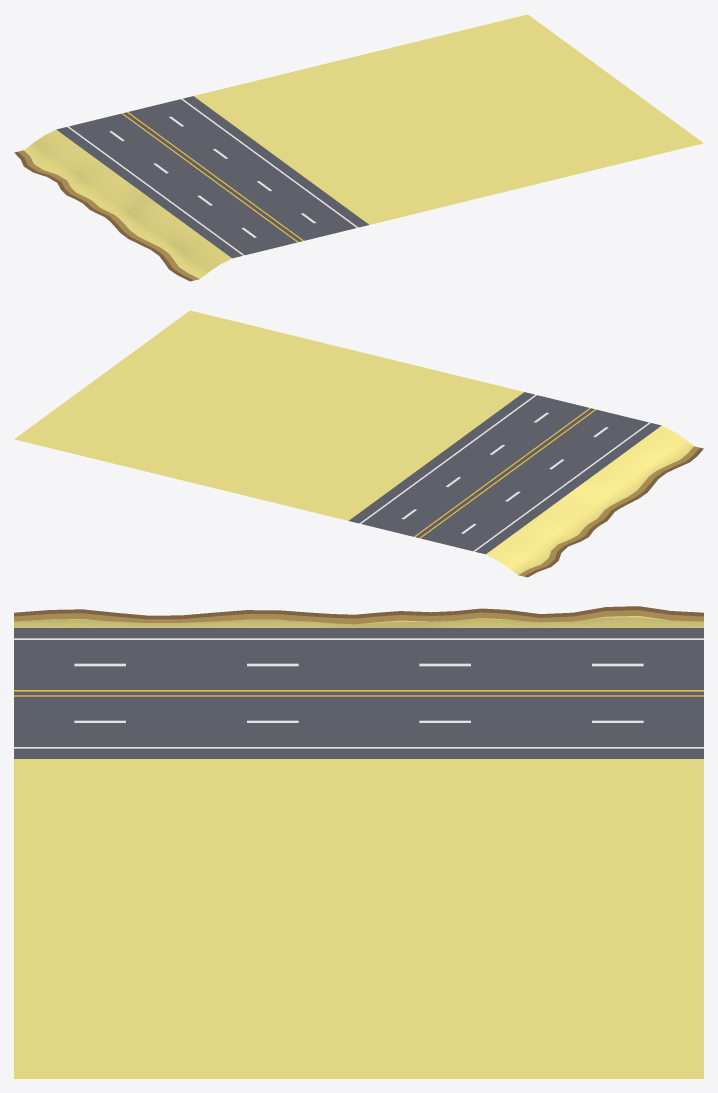
The model's file is HighWay_Ground_04.fbx.
3 views of the same model, one above another, from view 1: azimuth 30°, elevation 25°; view 2: azimuth 150°, elevation 25°; view 3: azimuth 270°, elevation 25° (orthographic). The views are drawn at different scales.
Visible parts, largest first — view 1: HighWay_Ground_04; view 2: HighWay_Ground_04; view 3: HighWay_Ground_04.
Boxes of the visible parts, left/top/right/bottom form: HighWay_Ground_04: left=14, top=14, right=703, bottom=281; HighWay_Ground_04: left=14, top=310, right=703, bottom=577; HighWay_Ground_04: left=14, top=606, right=703, bottom=1078.
Size of the model in its own units: 10980 by 262 by 6432.
Materials: 1 (1 with a texture image).
